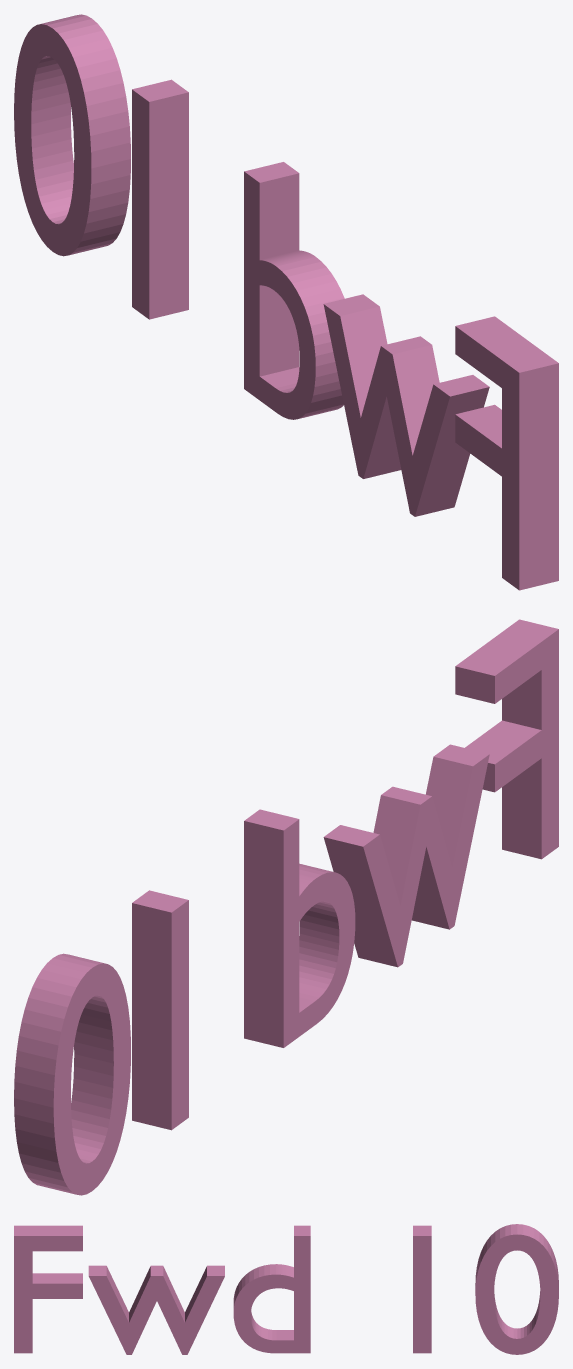
The model's file is fwd10.fbx.
The picture shows the model from 3 angles, top to bottom: view 1: azimuth 30°, elevation 25°; view 2: azimuth 150°, elevation 25°; view 3: azimuth 270°, elevation 25°; orthographic projection. The views are drawn at different scales.
Parts seen in each view (by area): view 1: Text; view 2: Text; view 3: Text.
Part boxes in pixels (x1,y1,x2,y2): Text: [14, 14, 558, 590]; Text: [14, 619, 558, 1195]; Text: [14, 1224, 558, 1354].
Size of the model in its own units: 13 by 70 by 287.
